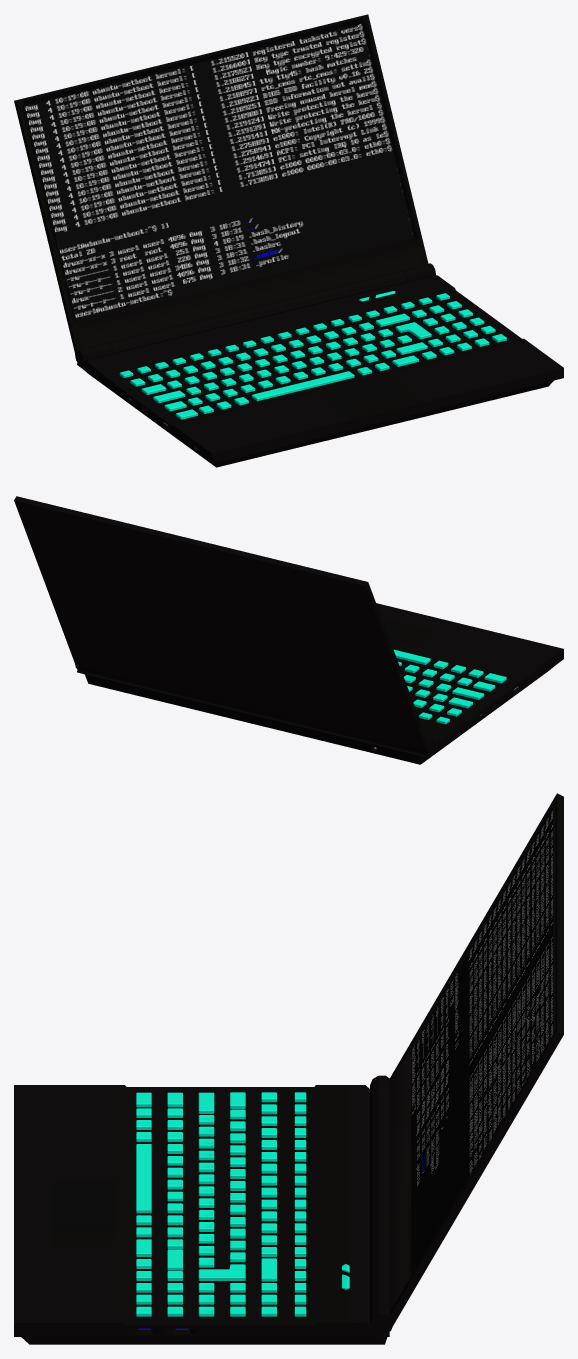
Rendered from LaptopOpen.fbx.
3 renders of one model, top to bottom at view 1: azimuth 30°, elevation 25°; view 2: azimuth 150°, elevation 25°; view 3: azimuth 270°, elevation 25°, orthographic. The views are drawn at different scales.
Visible parts, largest first — view 1: LOD0; view 2: LOD0; view 3: LOD0.
Boxes of the visible parts, box(x1,y1,x2,y2) form: LOD0: box(14, 14, 563, 467); LOD0: box(14, 496, 563, 764); LOD0: box(14, 793, 563, 1344).
Size of what is drawn, in the model's own units: 36.08 by 22.74 by 35.14.
